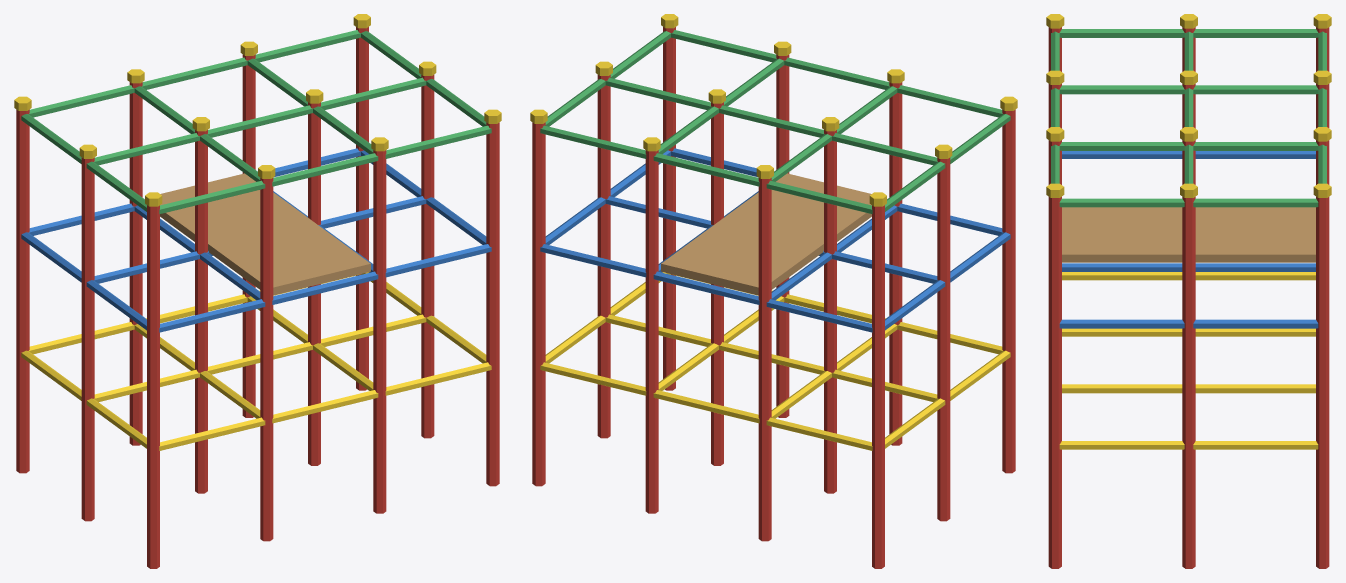
Rendered from climbing-frame.glb.
3 renders of one model, left to right at view 1: azimuth 30°, elevation 25°; view 2: azimuth 150°, elevation 25°; view 3: azimuth 270°, elevation 25°, orthographic. The views are drawn at different scales.
Visible parts, largest first — view 1: climbing-frame; view 2: climbing-frame; view 3: climbing-frame.
Part boxes in pixels (bbox=[...]): climbing-frame: bbox=[14, 14, 501, 568]; climbing-frame: bbox=[530, 14, 1017, 568]; climbing-frame: bbox=[1046, 14, 1331, 568].
Bounding box in the file's own units: 1.87 × 1.88 × 1.28.
